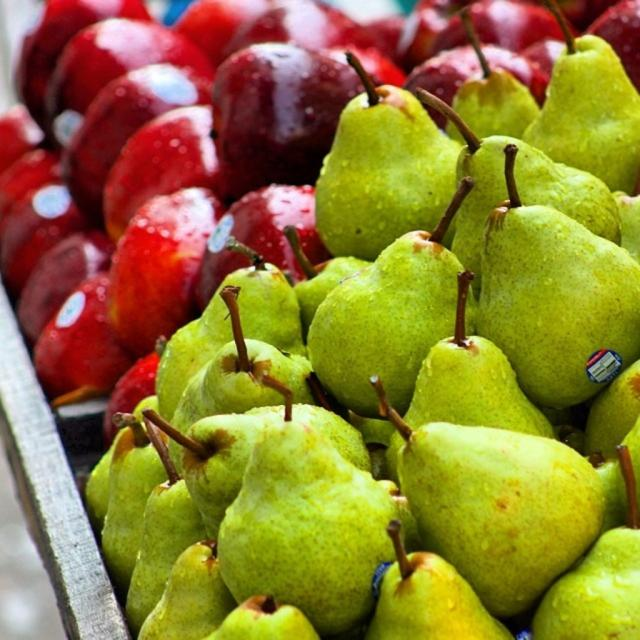pear: (84, 0, 639, 638)
